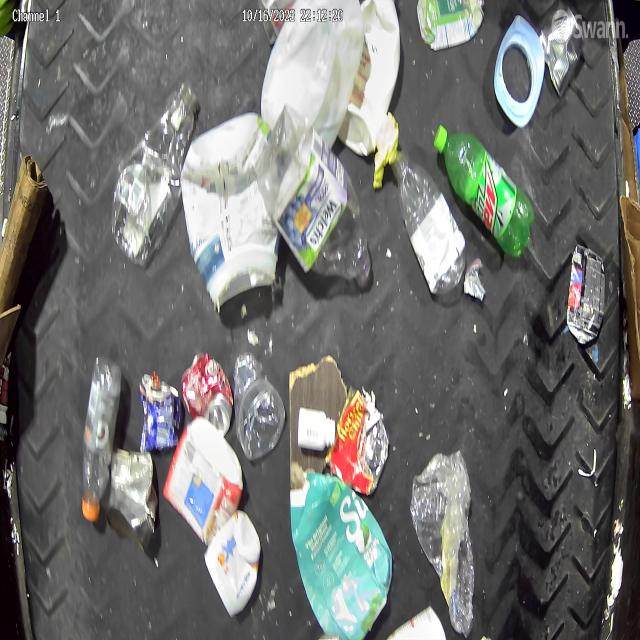can: (182, 350, 233, 435), (540, 4, 583, 97), (567, 243, 605, 345), (138, 370, 182, 452)
milk_jug: (261, 9, 361, 162), (342, 1, 402, 158)
non_white_jug: (180, 109, 280, 301), (289, 468, 391, 639)
plastic_bottle: (274, 124, 374, 290), (112, 80, 199, 265), (433, 125, 535, 256), (387, 144, 467, 298), (410, 449, 474, 638), (81, 356, 123, 523), (233, 353, 286, 460)
